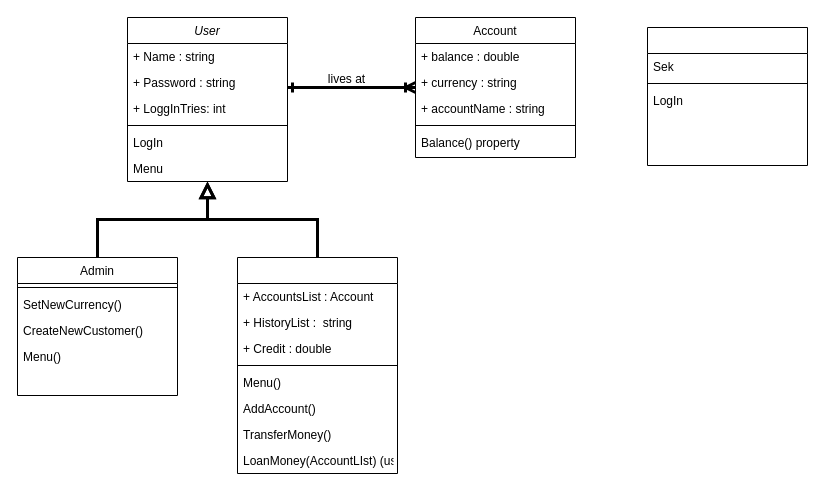
Image size: 825x494. Some labels were removed from this diagram. The box of each missing label's shape, as (x1, y1, x2, y2) in pixels:
CurrencyConverter: (646, 26, 808, 166)
Customer: (236, 256, 398, 474)
